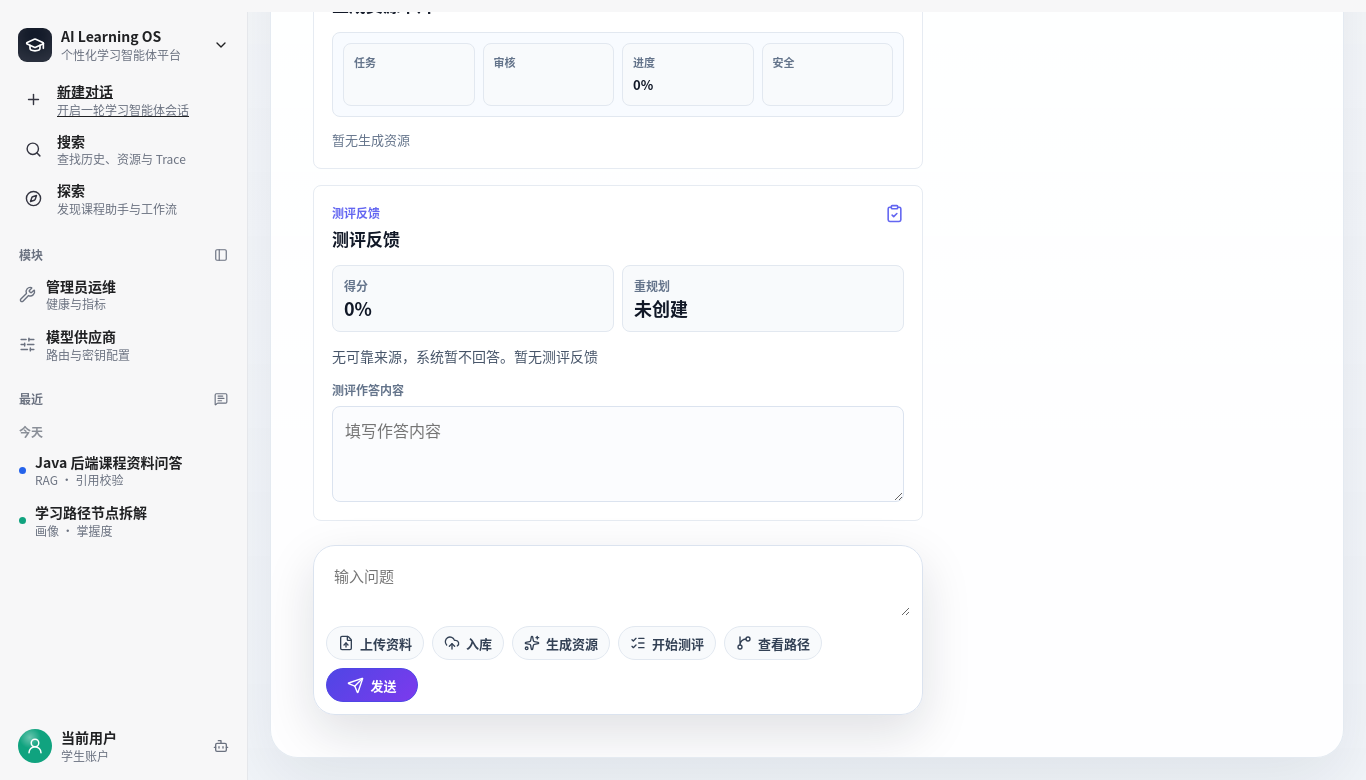
Test case: AI Learning OS workbench › uses the learner-edited assessment answer for grading
(page scrolled)
Type "I would first group the child table by parent id, then join the aggregate." into the text box with test id "assessment-answer-input" at (618, 454), box [332,406,904,502]
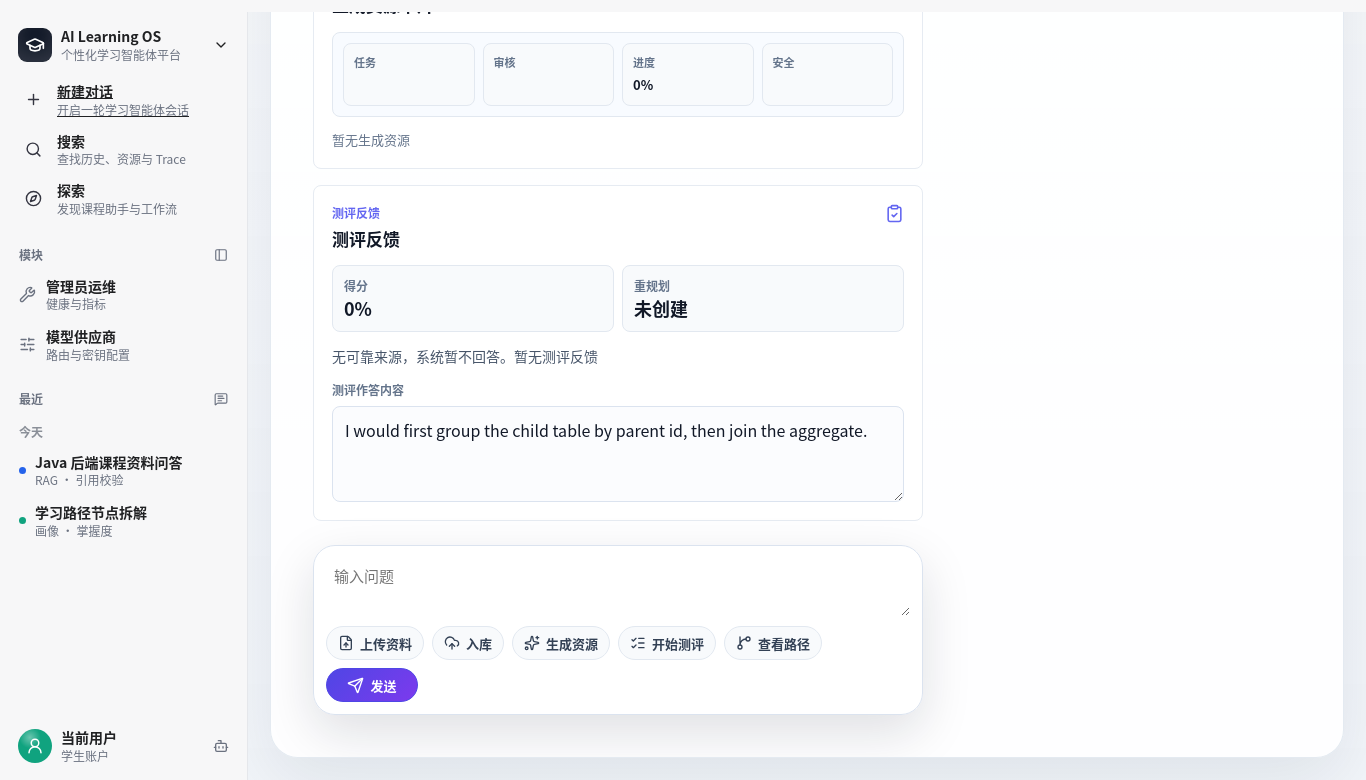
Click the button with test id "submit-assessment" at (667, 643), box [618,626,716,660]
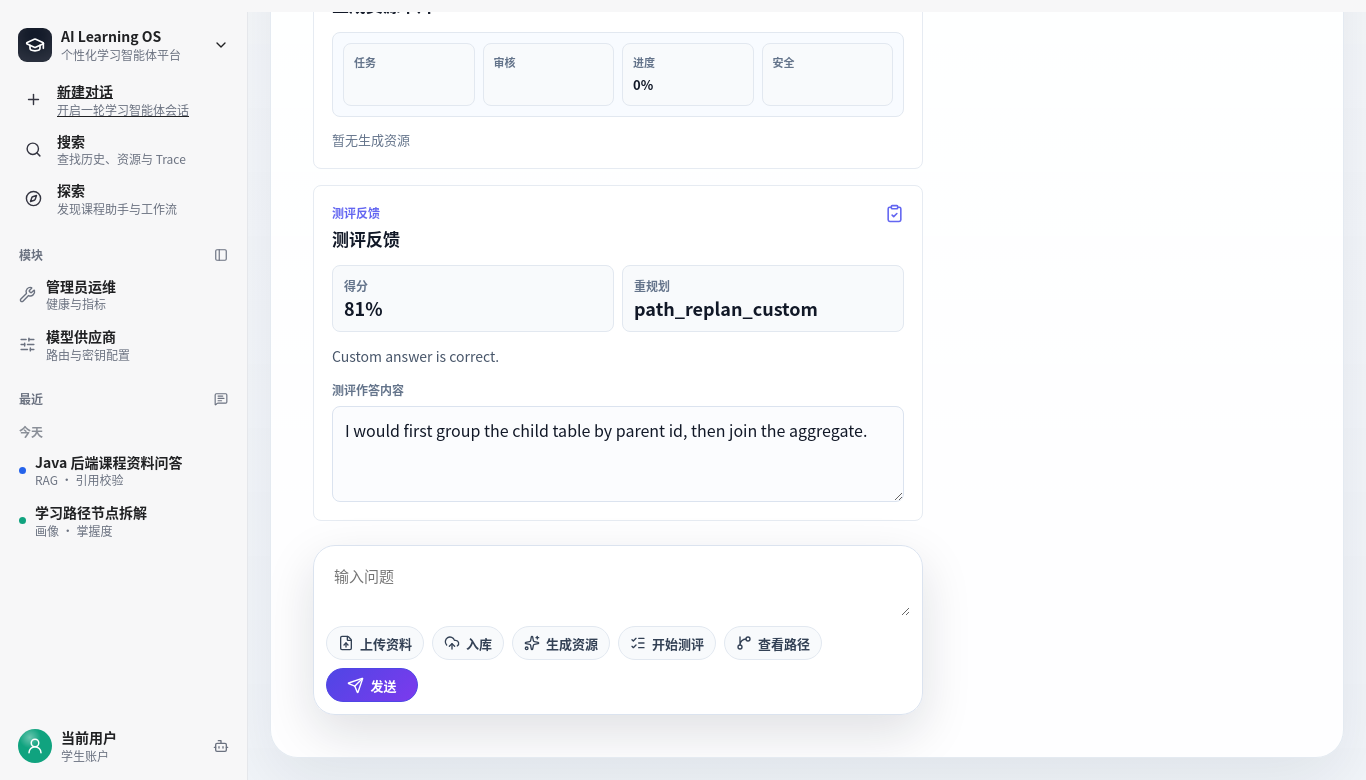
Check: the text "Custom answer is correct." is shown, box [332,346,499,366]
Check: the text "81%" is shown, box [344,295,383,321]
